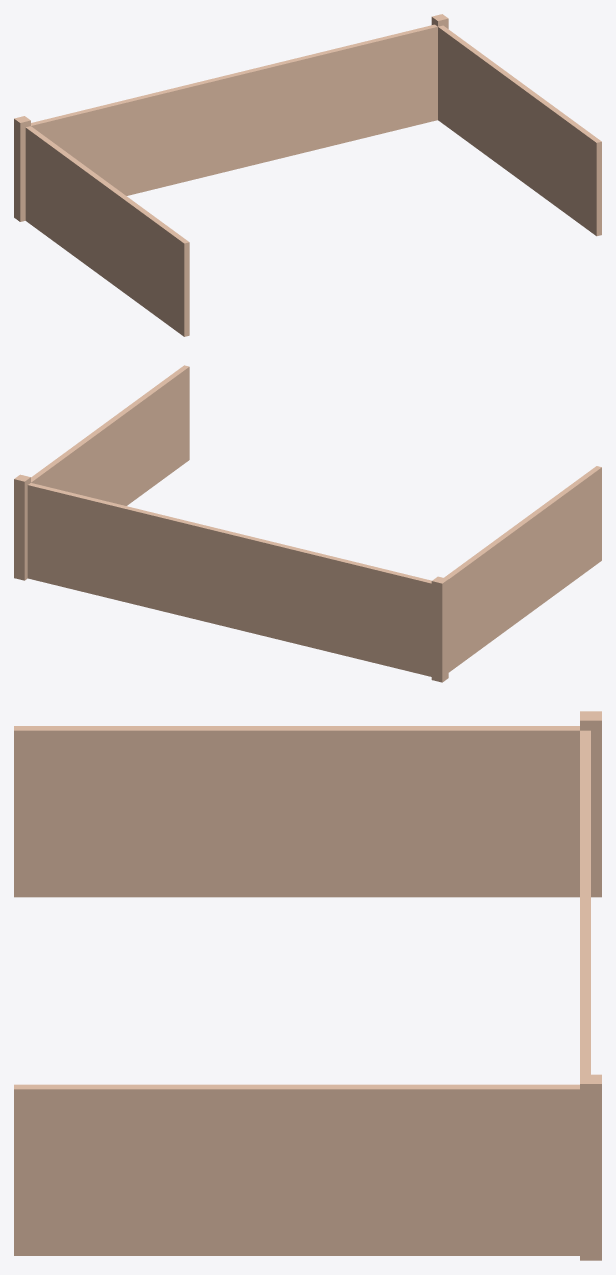
The model's file is fence_rectangle.glb.
3 views of the same model, one above another, from view 1: azimuth 30°, elevation 25°; view 2: azimuth 150°, elevation 25°; view 3: azimuth 270°, elevation 25° (orthographic). The views are drawn at different scales.
Visible parts, largest first — view 1: fence_rectangle; view 2: fence_rectangle; view 3: fence_rectangle.
Boxes of the visible parts, left/top/right/bottom form: fence_rectangle: left=14, top=14, right=601, bottom=336; fence_rectangle: left=14, top=365, right=601, bottom=682; fence_rectangle: left=14, top=711, right=601, bottom=1260.
Bounding box in the file's own units: 1.2 × 0.265 × 0.8.
